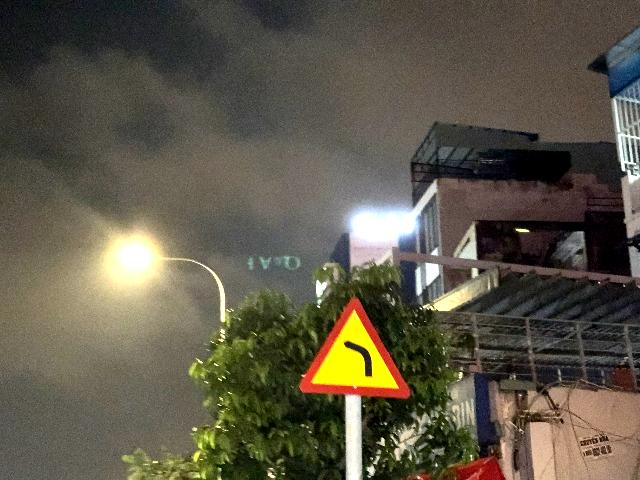cho-ngoat-nguy-hiem-ben-trai: (299, 297, 411, 400)
